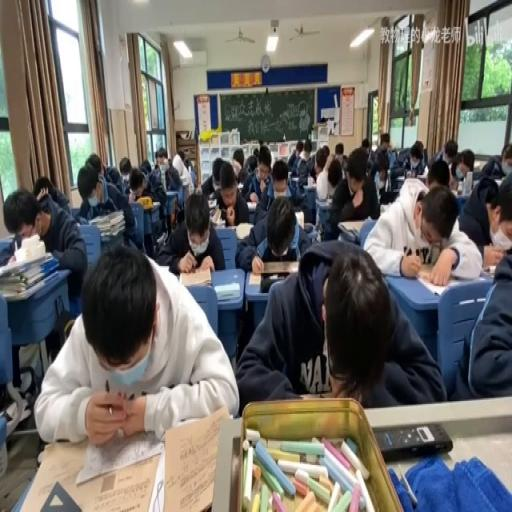calculator: (10, 428, 163, 511), (160, 405, 231, 512), (416, 270, 480, 296), (178, 266, 212, 287), (214, 280, 240, 300), (338, 219, 366, 235), (0, 234, 14, 260), (234, 222, 252, 240), (210, 205, 223, 223), (482, 264, 498, 276), (156, 230, 166, 248), (294, 210, 303, 229), (386, 148, 396, 165), (153, 263, 170, 272), (303, 220, 315, 232), (378, 202, 390, 213), (320, 196, 333, 206), (405, 171, 421, 179), (206, 196, 216, 208), (306, 176, 315, 188), (149, 199, 159, 209), (246, 201, 258, 209)
paper: (37, 239, 237, 444), (234, 236, 439, 410), (365, 178, 481, 283), (2, 180, 86, 306), (237, 193, 313, 276), (78, 159, 139, 255), (158, 189, 224, 277), (329, 146, 379, 229), (478, 172, 512, 269), (208, 160, 250, 230), (241, 144, 274, 209), (152, 146, 182, 204), (477, 142, 509, 181), (401, 137, 429, 179), (304, 142, 330, 185), (450, 148, 474, 189), (426, 159, 450, 189), (32, 175, 52, 202), (286, 139, 302, 172), (118, 156, 132, 180), (231, 148, 243, 176), (85, 154, 101, 175), (326, 164, 340, 188), (106, 164, 120, 186), (186, 162, 197, 188), (128, 178, 142, 198), (98, 175, 107, 202), (138, 160, 152, 176), (379, 134, 393, 150), (360, 136, 370, 154), (376, 154, 386, 172), (334, 141, 344, 158), (178, 148, 186, 165), (251, 148, 259, 163), (414, 149, 422, 162), (341, 154, 348, 168)
person: (374, 422, 452, 461), (259, 257, 298, 273), (259, 274, 291, 293), (315, 224, 324, 240)
